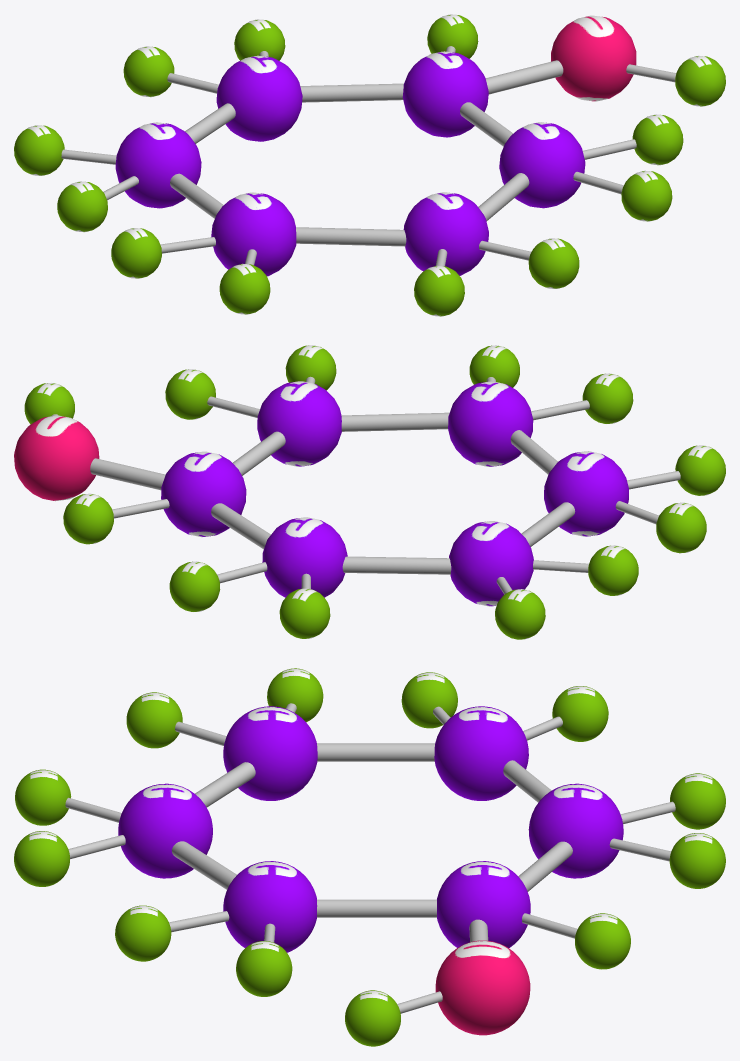
The model's file is SM_Molecule_3.fbx.
3 renders of one model, top to bottom at view 1: azimuth 30°, elevation 25°; view 2: azimuth 150°, elevation 25°; view 3: azimuth 270°, elevation 25°, orthographic. The views are drawn at different scales.
Visible parts, largest first — view 1: SM_Oxygen1, Carbon5, Carbon4, Carbon3, Carbon, Carbon1, Carbon2, Hydrogen1, Hydrogen8, Hydrogen, Hydrogen3, Hydrogen2 (+21 smaller); view 2: SM_Oxygen1, Carbon2, Carbon3, Carbon, Carbon4, Carbon1, Carbon5, Hydrogen4, Hydrogen9, Hydrogen7, Hydrogen, Hydrogen5 (+20 smaller); view 3: SM_Oxygen1, Carbon, Carbon1, Carbon2, Carbon3, Carbon5, Carbon4, Hydrogen6, Hydrogen8, Hydrogen10, Hydrogen7, Hydrogen11 (+19 smaller).
Part boxes in pixels (x1=…): SM_Oxygen1: x1=551, y1=15, x2=636, y2=101; Carbon5: x1=216, y1=55, x2=302, y2=141; Carbon4: x1=402, y1=51, x2=488, y2=137; Carbon3: x1=499, y1=122, x2=585, y2=208; Carbon: x1=115, y1=122, x2=201, y2=208; Carbon1: x1=211, y1=192, x2=296, y2=276; Carbon2: x1=403, y1=192, x2=488, y2=275; Hydrogen1: x1=219, y1=263, x2=270, y2=314; Hydrogen8: x1=621, y1=170, x2=672, y2=221; Hydrogen: x1=111, y1=228, x2=161, y2=278; Hydrogen3: x1=528, y1=238, x2=579, y2=288; Hydrogen2: x1=414, y1=265, x2=464, y2=316; SM_Oxygen1: x1=14, y1=415, x2=99, y2=501; Carbon2: x1=448, y1=381, x2=533, y2=466; Carbon3: x1=257, y1=381, x2=341, y2=466; Carbon: x1=449, y1=521, x2=533, y2=606; Carbon4: x1=161, y1=451, x2=246, y2=537; Carbon1: x1=544, y1=451, x2=628, y2=536; Carbon5: x1=262, y1=517, x2=347, y2=597; Hydrogen4: x1=495, y1=589, x2=545, y2=639; Hydrogen9: x1=588, y1=545, x2=638, y2=595; Hydrogen7: x1=63, y1=493, x2=113, y2=544; Hydrogen: x1=656, y1=502, x2=706, y2=553; Hydrogen5: x1=279, y1=588, x2=330, y2=638; SM_Oxygen1: x1=435, y1=940, x2=530, y2=1035; Carbon: x1=434, y1=706, x2=528, y2=800; Carbon1: x1=223, y1=706, x2=317, y2=800; Carbon2: x1=118, y1=783, x2=212, y2=878; Carbon3: x1=223, y1=861, x2=317, y2=952; Carbon5: x1=528, y1=783, x2=623, y2=878; Carbon4: x1=437, y1=861, x2=530, y2=947; Hydrogen6: x1=669, y1=833, x2=725, y2=888; Hydrogen8: x1=115, y1=905, x2=171, y2=961; Hydrogen10: x1=236, y1=941, x2=292, y2=996; Hydrogen7: x1=575, y1=913, x2=630, y2=969; Hydrogen11: x1=345, y1=990, x2=400, y2=1046.
Bounding box in the file's own units: 476 × 54.79 × 414.
